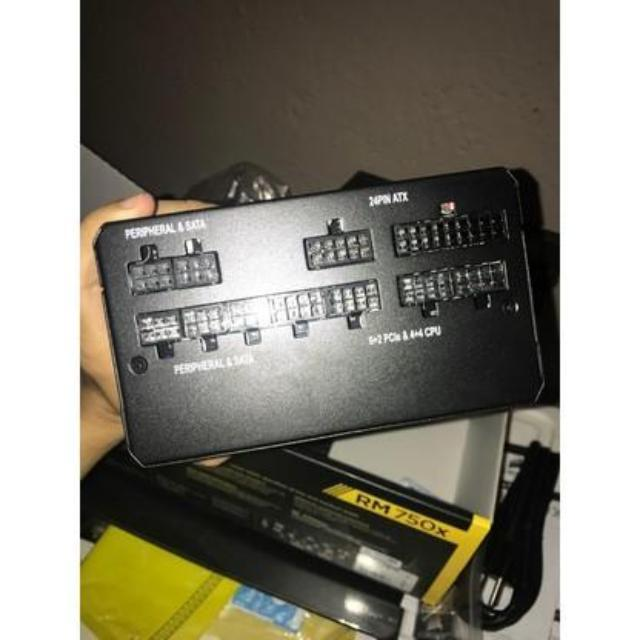PSU: (95, 160, 568, 474)
